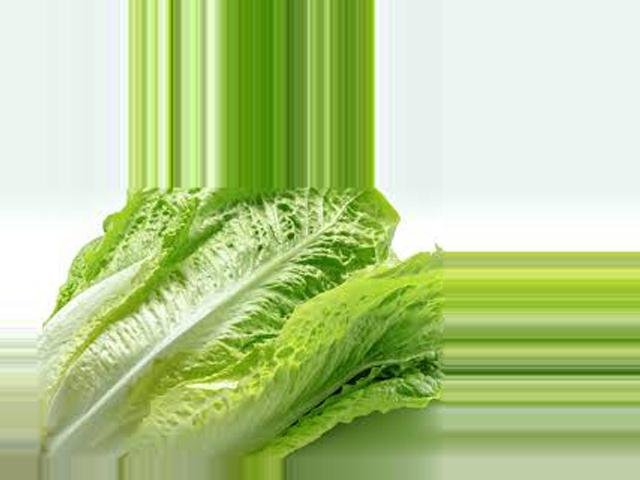lettuce: (36, 189, 447, 457)
